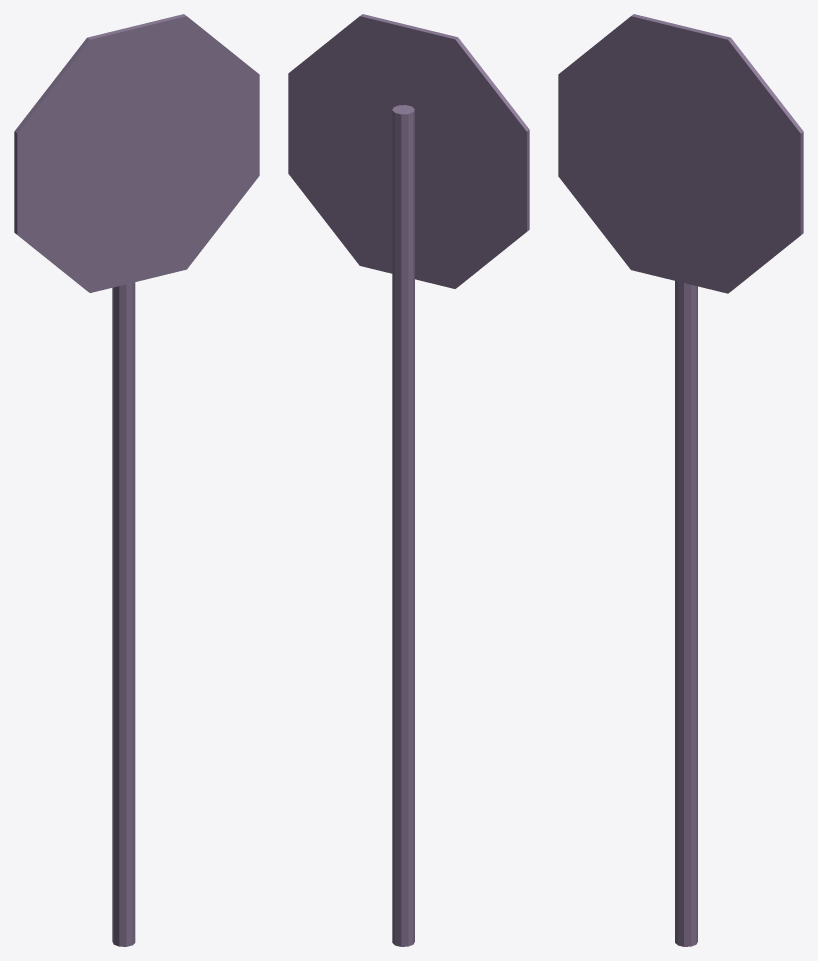
The model's file is stop_sign.fbx.
The picture shows the model from 3 angles, left to right: view 1: azimuth 30°, elevation 25°; view 2: azimuth 150°, elevation 25°; view 3: azimuth 330°, elevation 25°; orthographic projection.
Parts seen in each view (by area): view 1: stop_sign; view 2: stop_sign; view 3: stop_sign.
Boxes of the visible parts, x1,y1,x2,y2 form: stop_sign: [14, 14, 259, 946]; stop_sign: [288, 14, 529, 946]; stop_sign: [558, 14, 803, 946].
Size of the model in its own units: 1.5 by 5.45 by 0.1747.
